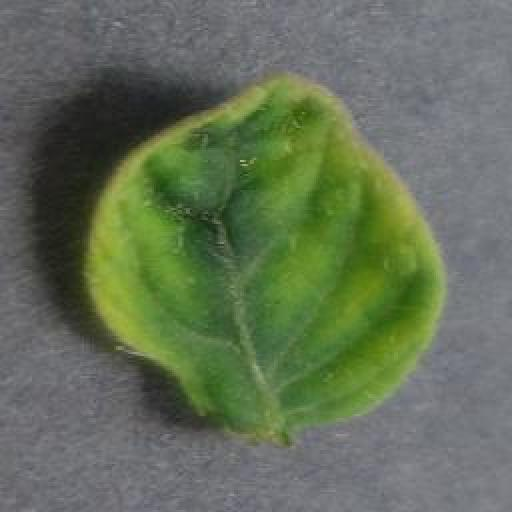Yellow Leaf Curl Virus: (83, 72, 448, 443)
